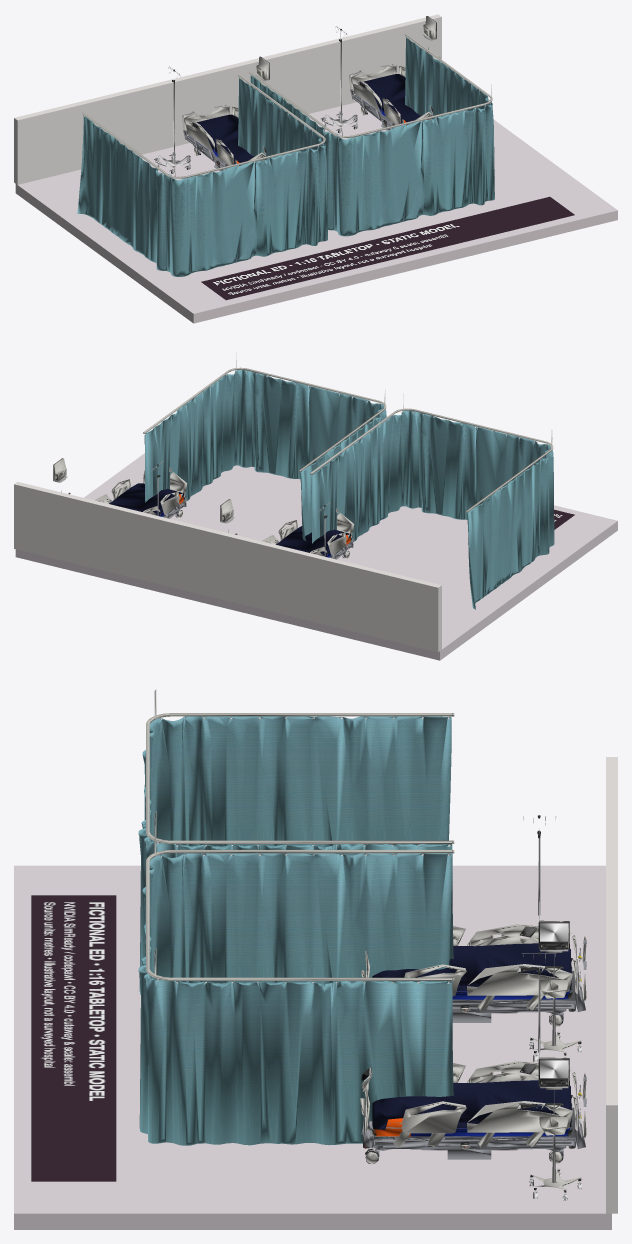
File: ed-zone.glb
The picture shows the model from 3 angles, top to bottom: view 1: azimuth 30°, elevation 25°; view 2: azimuth 150°, elevation 25°; view 3: azimuth 270°, elevation 25°; orthographic projection. The views are drawn at different scales.
Visible parts, largest first — view 1: Fictional_ED_two_cubicle_cutaway, Display_plinth, Cutaway_rear_wall, Provenance_plate; view 2: Fictional_ED_two_cubicle_cutaway, Cutaway_rear_wall, Display_plinth; view 3: Fictional_ED_two_cubicle_cutaway, Display_plinth, Provenance_plate, Cutaway_rear_wall.
Part boxes in pixels (bbox=[...]): Fictional_ED_two_cubicle_cutaway: bbox=[77, 16, 494, 276]; Display_plinth: bbox=[15, 102, 617, 323]; Cutaway_rear_wall: bbox=[14, 14, 441, 184]; Provenance_plate: bbox=[201, 196, 574, 300]; Fictional_ED_two_cubicle_cutaway: bbox=[53, 352, 554, 609]; Cutaway_rear_wall: bbox=[14, 481, 441, 652]; Display_plinth: bbox=[15, 453, 617, 660]; Fictional_ED_two_cubicle_cutaway: bbox=[138, 689, 586, 1200]; Display_plinth: bbox=[14, 865, 611, 1229]; Provenance_plate: bbox=[31, 895, 116, 1181]; Cutaway_rear_wall: bbox=[606, 757, 617, 1213].
Size of the model in its own units: 0.5163 by 0.1469 by 0.3787.
Materials: 89 (51 with a texture image).
